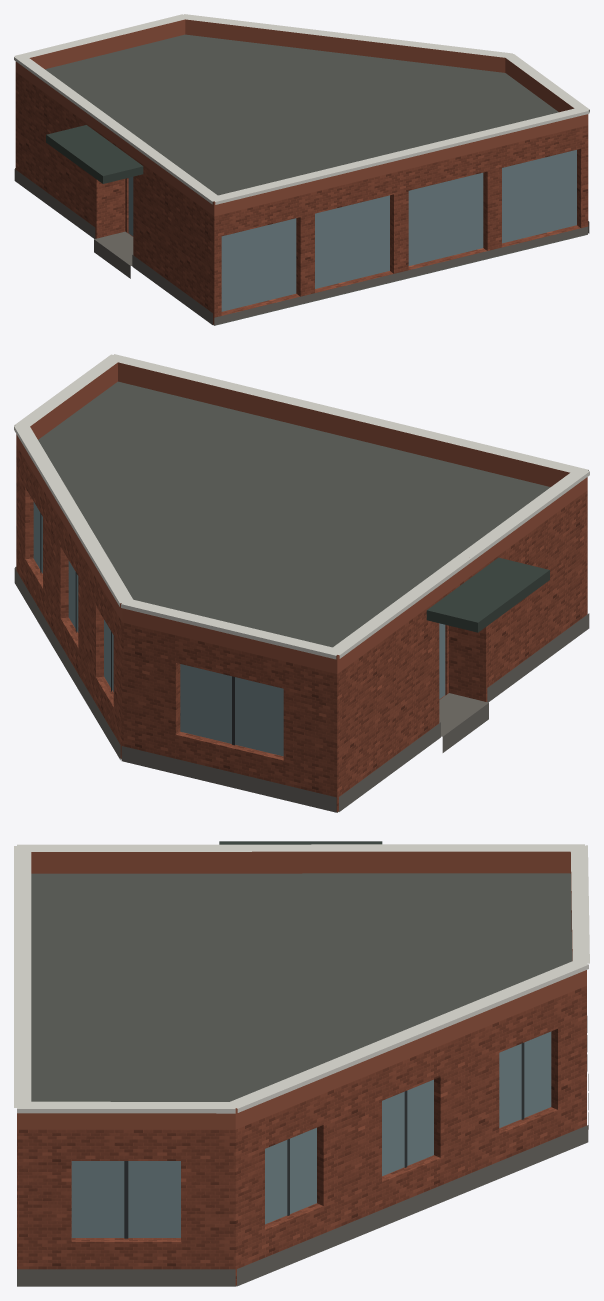
3 renders of one model, top to bottom at view 1: azimuth 30°, elevation 25°; view 2: azimuth 150°, elevation 25°; view 3: azimuth 270°, elevation 25°, orthographic. The views are drawn at different scales.
Visible parts, largest first — view 1: cafeBonia__roof, cafeBonia__wall, cafeBonia__glass, cafeBonia__parapet, cafeBonia__trim, cafeBonia__base, cafeBonia__canopy; view 2: cafeBonia__roof, cafeBonia__wall, cafeBonia__parapet, cafeBonia__trim, cafeBonia__base, cafeBonia__glass, cafeBonia__canopy; view 3: cafeBonia__roof, cafeBonia__wall, cafeBonia__parapet, cafeBonia__glass, cafeBonia__trim, cafeBonia__base, cafeBonia__frame, cafeBonia__canopy.
Boxes of the visible parts, left/top/right/bottom form: cafeBonia__roof: left=45, top=34, right=587, bottom=325; cafeBonia__wall: left=15, top=72, right=588, bottom=324; cafeBonia__glass: left=128, top=150, right=576, bottom=311; cafeBonia__parapet: left=15, top=19, right=588, bottom=216; cafeBonia__trim: left=14, top=14, right=589, bottom=204; cafeBonia__base: left=14, top=168, right=589, bottom=325; cafeBonia__canopy: left=46, top=125, right=143, bottom=183; cafeBonia__roof: left=38, top=381, right=550, bottom=812; cafeBonia__wall: left=16, top=445, right=587, bottom=811; cafeBonia__parapet: left=16, top=362, right=587, bottom=673; cafeBonia__trim: left=14, top=354, right=589, bottom=659; cafeBonia__base: left=14, top=567, right=589, bottom=812; cafeBonia__glass: left=33, top=502, right=445, bottom=756; cafeBonia__canopy: left=426, top=557, right=549, bottom=632; cafeBonia__roof: left=31, top=873, right=572, bottom=1286; cafeBonia__wall: left=17, top=985, right=586, bottom=1285; cafeBonia__parapet: left=17, top=851, right=586, bottom=1129; cafeBonia__glass: left=71, top=1031, right=551, bottom=1237; cafeBonia__trim: left=14, top=844, right=589, bottom=1113; cafeBonia__base: left=17, top=1016, right=588, bottom=1286; cafeBonia__frame: left=124, top=1042, right=524, bottom=1238; cafeBonia__canopy: left=219, top=841, right=382, bottom=844.
Size of the model in its own units: 14.42 by 4.5 by 12.03.
9 materials, 1 textured.
